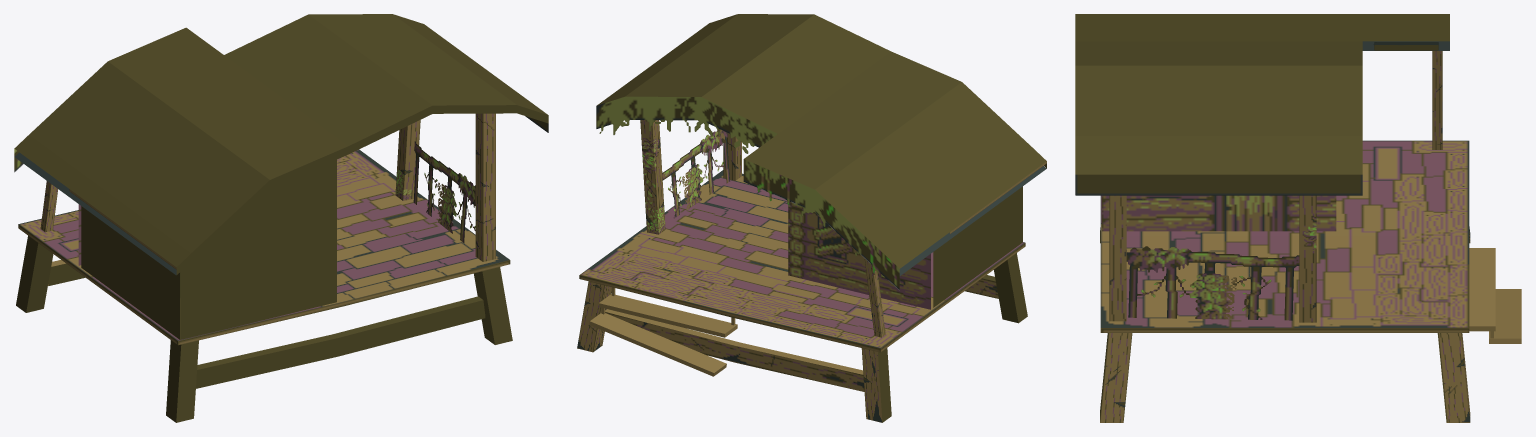
Rendered from Cabaña1.fbx.
The picture shows the model from 3 angles, left to right: view 1: azimuth 30°, elevation 25°; view 2: azimuth 150°, elevation 25°; view 3: azimuth 270°, elevation 25°; orthographic projection. The views are drawn at different scales.
Visible parts, largest first — view 1: Escaleras C1; view 2: Escaleras C1; view 3: Escaleras C1.
Part boxes in pixels (left/top/right/bottom): Escaleras C1: left=14, top=14, right=548, bottom=422; Escaleras C1: left=577, top=14, right=1046, bottom=422; Escaleras C1: left=1075, top=14, right=1521, bottom=422.
Bounding box in the file's own units: 268 × 182 × 241.
